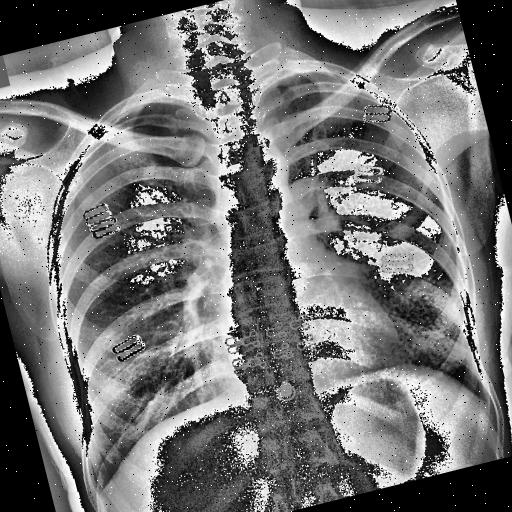11- Pleural thickening: (248, 68, 330, 140), (102, 102, 152, 124)
13- Pulmonary fibrosis: (376, 214, 417, 230)
5- ILD: (294, 236, 490, 410)
7- Lung Opacity: (317, 246, 476, 392)
9- Other lesion: (294, 236, 490, 410), (317, 246, 476, 392), (328, 252, 480, 404)
